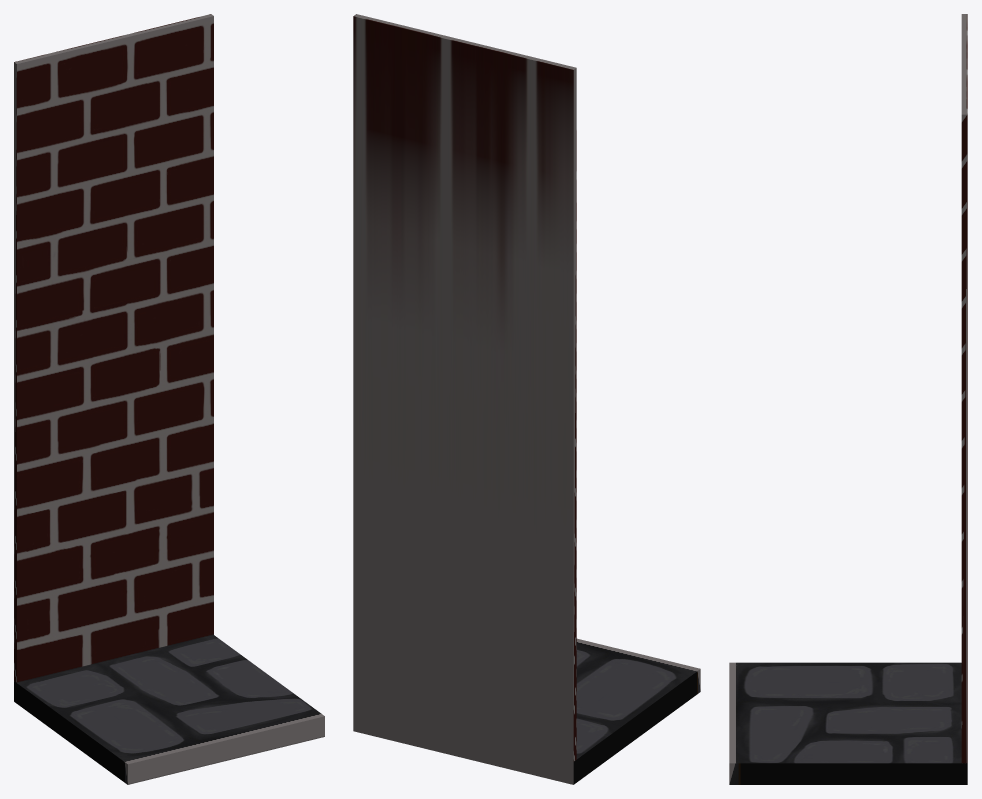
File: Brick_Pavement.fbx
The picture shows the model from 3 angles, left to right: view 1: azimuth 30°, elevation 25°; view 2: azimuth 150°, elevation 25°; view 3: azimuth 270°, elevation 25°; orthographic projection. The views are drawn at different scales.
Visible parts, largest first — view 1: pCube1; view 2: pCube1; view 3: pCube1.
Part boxes in pixels (x1=…): pCube1: x1=14, y1=14, x2=324, y2=784; pCube1: x1=353, y1=14, x2=700, y2=784; pCube1: x1=729, y1=14, x2=967, y2=784.
Size of the model in its own units: 1 by 3.1 by 1.
Materials: 1 (1 with a texture image).
